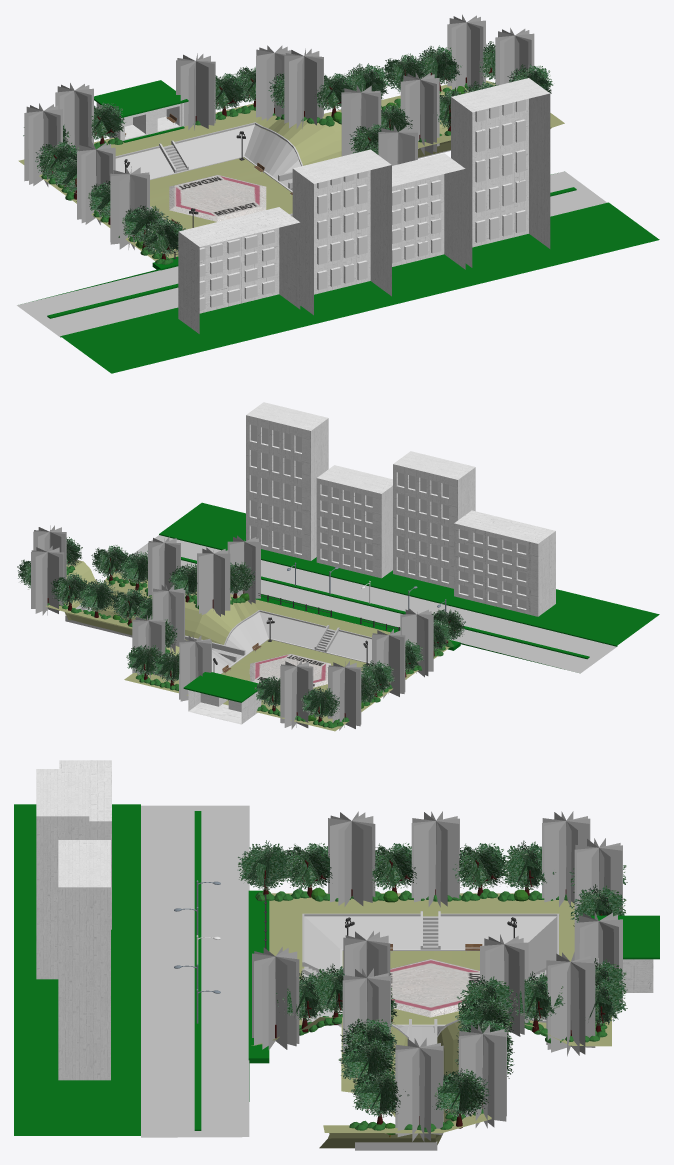
Rendered from Arena_Final.fbx.
The picture shows the model from 3 angles, top to bottom: view 1: azimuth 30°, elevation 25°; view 2: azimuth 150°, elevation 25°; view 3: azimuth 270°, elevation 25°; orthographic projection. The views are drawn at different scales.
Parts seen in each view (by area): view 1: Cube, Cube.132, Cube.130, Cube.131, Cube.129, Cylinder, pine.006, pine.004, pine.010, pine.008, pine.002, pine.001 (+25 smaller); view 2: Cube, Cube.132, Cube.131, Cube.130, Cube.129, pine.009, pine.008, pine.001, pine.003, pine, Cube.016, pine.002 (+23 smaller); view 3: Cube, Cube.132, Cube.130, pine.011, pine.005, pine.007, pine, pine.002, Cylinder, pine.008, pine.001, pine.006 (+29 smaller).
Part boxes in pixels (x1,y1,x2,y2): Cube: (17,80,659,373); Cube.132: (451,78,550,267); Cube.130: (292,149,391,315); Cube.131: (178,207,300,333); Cube.129: (392,153,465,269); Cylinder: (169,175,266,221); pine.006: (284,48,323,128); pine.004: (176,53,215,130); pine.010: (400,72,439,155); pine.008: (447,14,485,91); pine.002: (110,166,149,249); pine.001: (24,103,62,186); Cube: (46,502,659,731); Cube.132: (246,402,328,560); Cube.131: (454,510,555,616); Cube.130: (393,451,475,588); Cube.129: (316,465,392,578); pine.009: (197,547,230,616); pine.008: (31,546,64,615); pine.001: (328,661,361,730); pine.003: (280,660,313,729); pine: (372,629,405,698); Cube.016: (188,690,261,724); pine.002: (400,608,433,677); Cube: (14,804,611,1148); Cube.132: (58,840,110,1080); Cube.130: (36,769,89,979); pine.011: (252,947,299,1049); pine.005: (546,952,595,1056); pine.007: (395,1038,443,1141); pine: (411,811,459,907); pine.002: (328,811,375,906); Cylinder: (390,959,479,1017); pine.008: (458,1024,506,1128); pine.001: (542,811,590,906); pine.006: (480,934,528,1037).
Bounding box in the file's own units: 31352 × 8662 × 23897.
